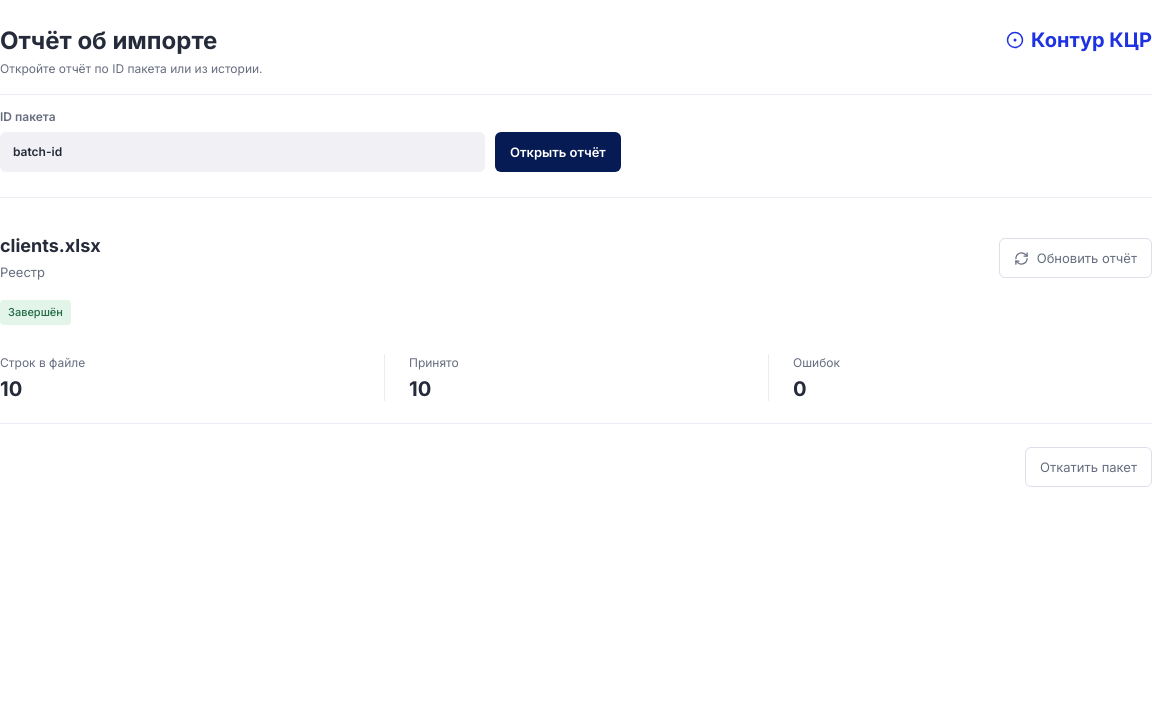
Scenario: rolls back a completed import with a recovery command
Click the button "Откатить пакет" at (1088, 467), box left=1025, top=447, right=1151, bottom=487
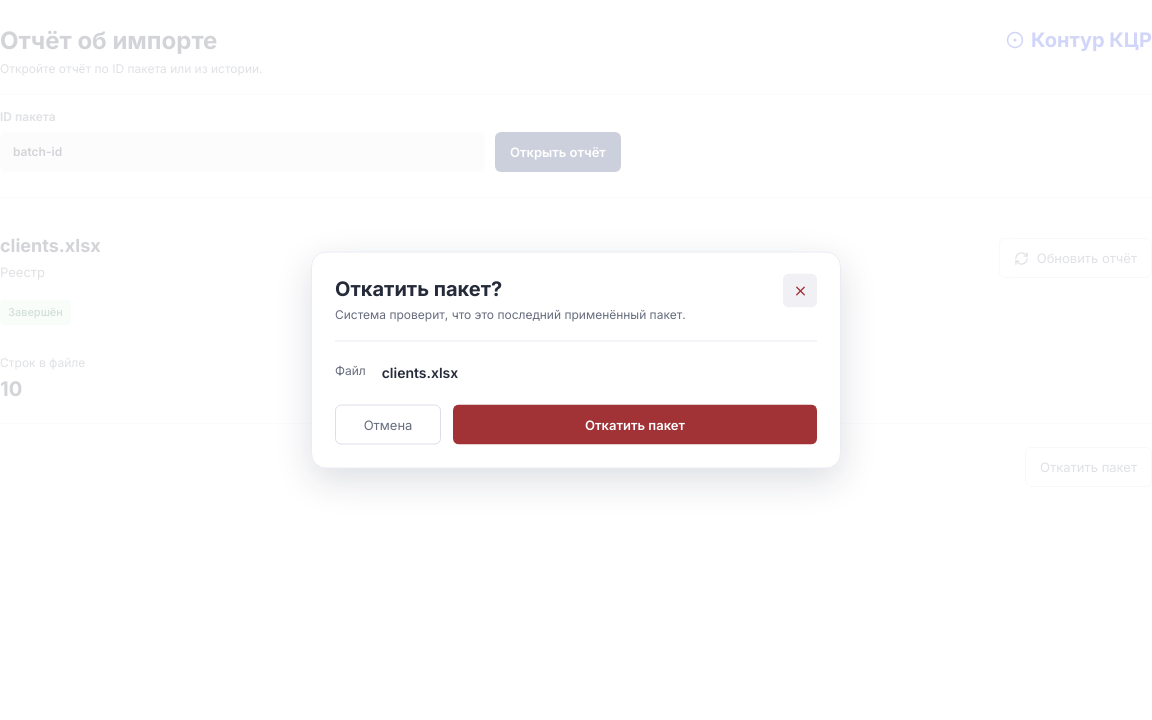
Click the button "Откатить пакет" at (635, 424), box left=453, top=404, right=817, bottom=444
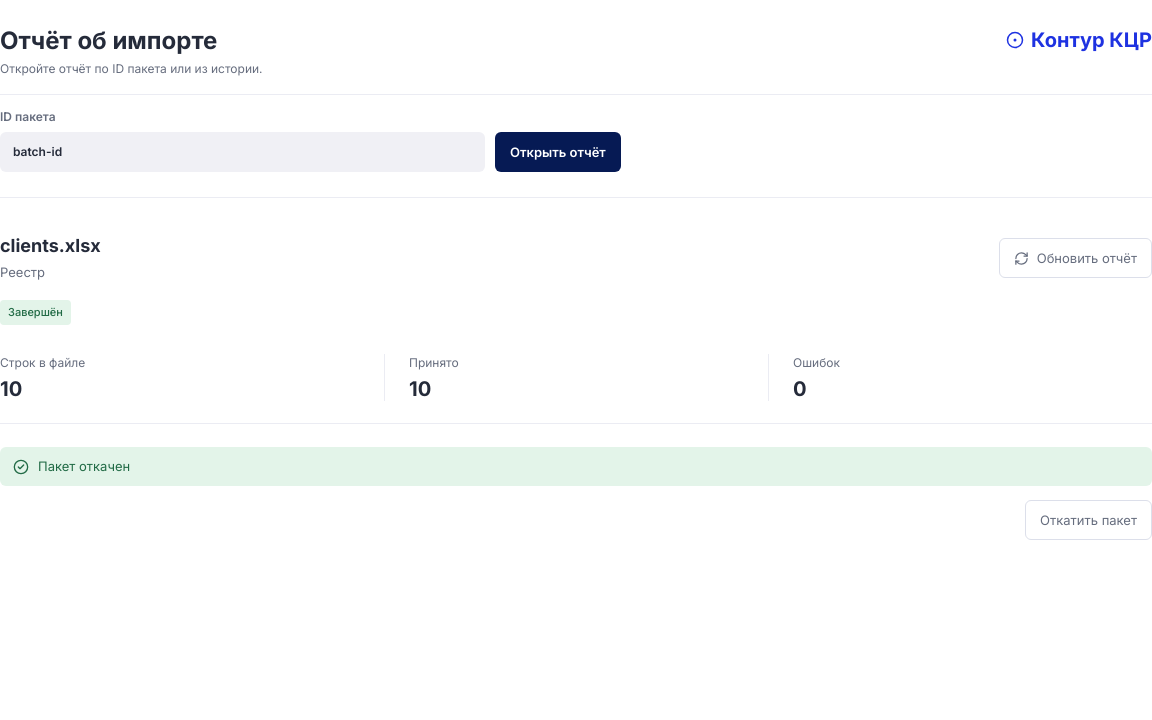
Now the text "Пакет откачен" is shown, box left=0, top=447, right=1151, bottom=486
